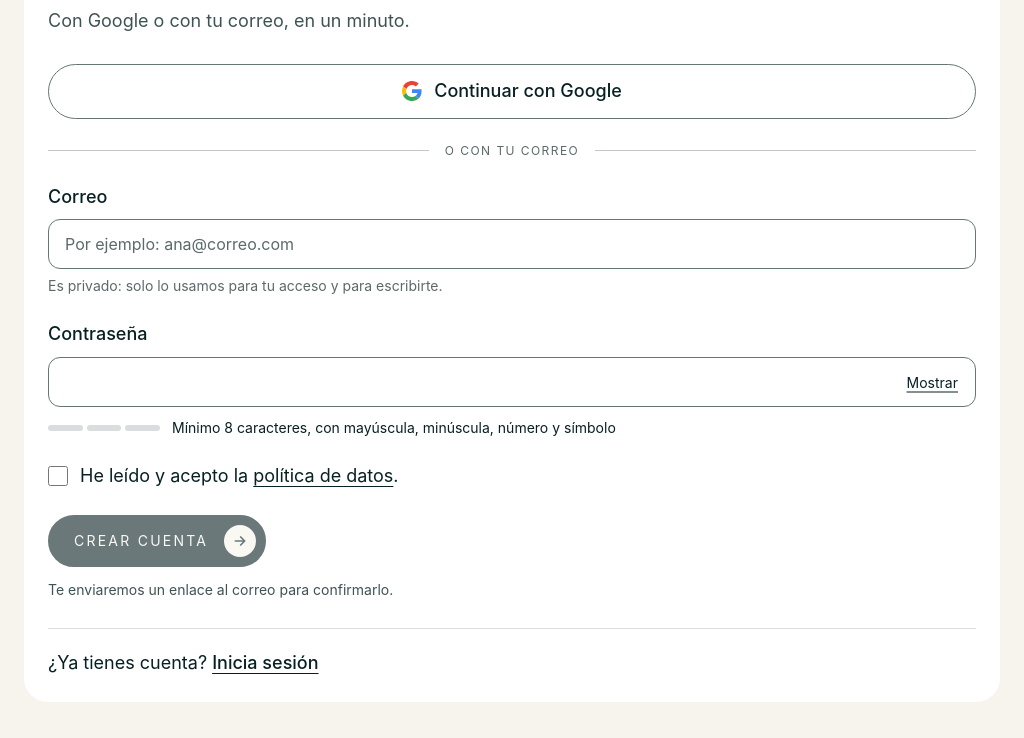
Test: RegistroView › el indicador de fortaleza cambia al escribir
(page scrolled)
expect the text "Mínimo 8 caracteres, con mayúscula, minúscula, número y símbolo" is shown: met, box left=172, top=417, right=616, bottom=438
Type "corta" into the password field labelled "Contraseña" at [512, 382], box left=48, top=357, right=976, bottom=407
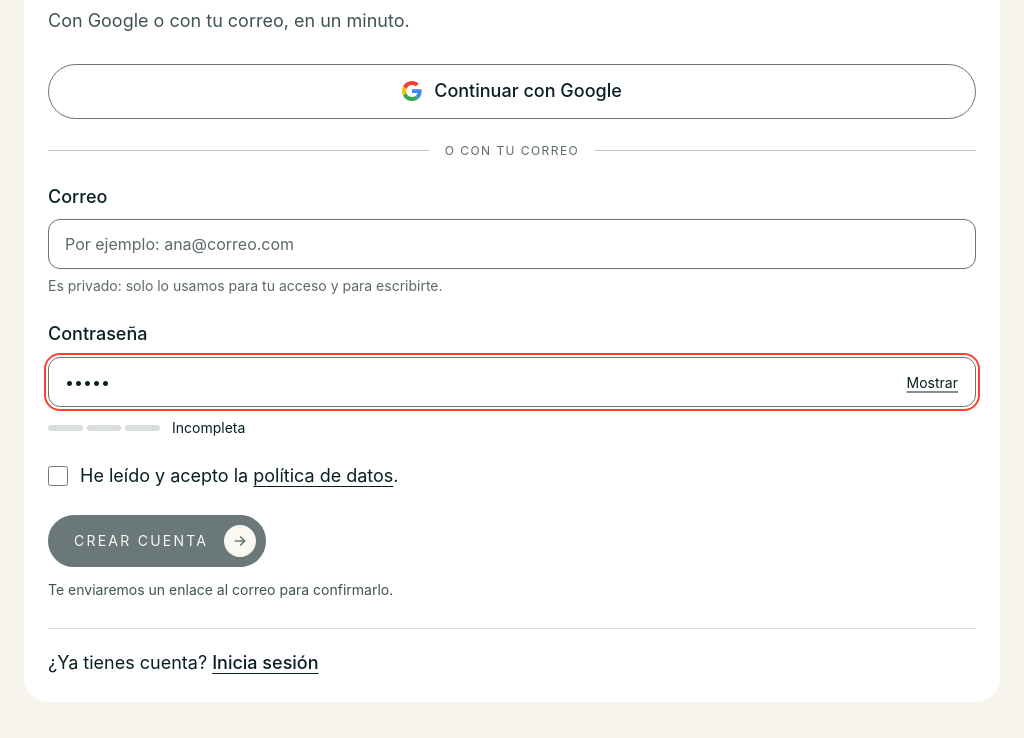
expect the text "Incompleta" is shown: met, box left=172, top=417, right=245, bottom=438
Type "letras123" into the password field labelled "Contraseña" at [512, 382], box left=48, top=357, right=976, bottom=407
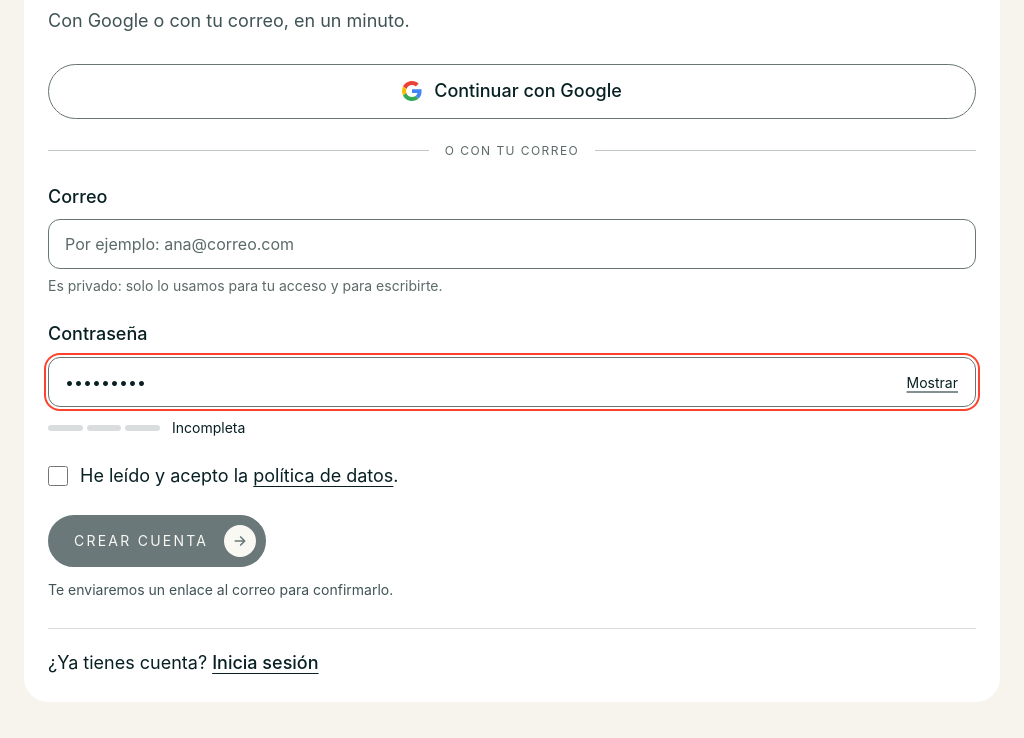
expect the text "Incompleta" is shown: met, box left=172, top=417, right=245, bottom=438
Type "Letras-123" into the password field labelled "Contraseña" at [512, 382], box left=48, top=357, right=976, bottom=407
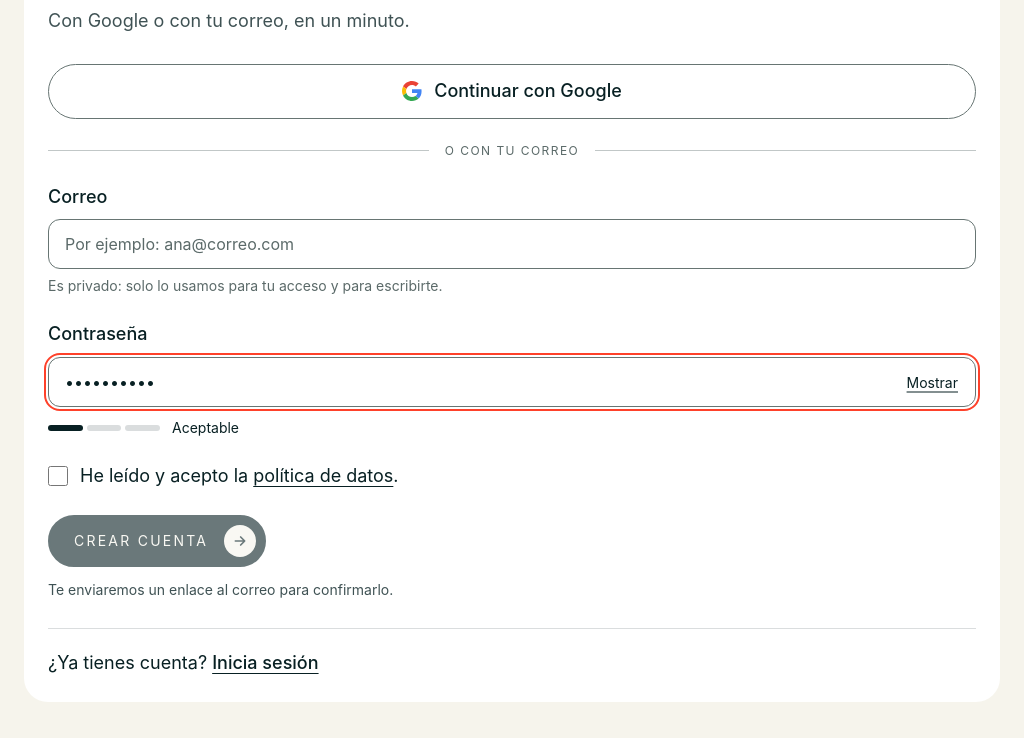
expect the text "Aceptable" is shown: met, box left=172, top=417, right=239, bottom=438
Type "Letras-123456" into the password field labelled "Contraseña" at [512, 382], box left=48, top=357, right=976, bottom=407
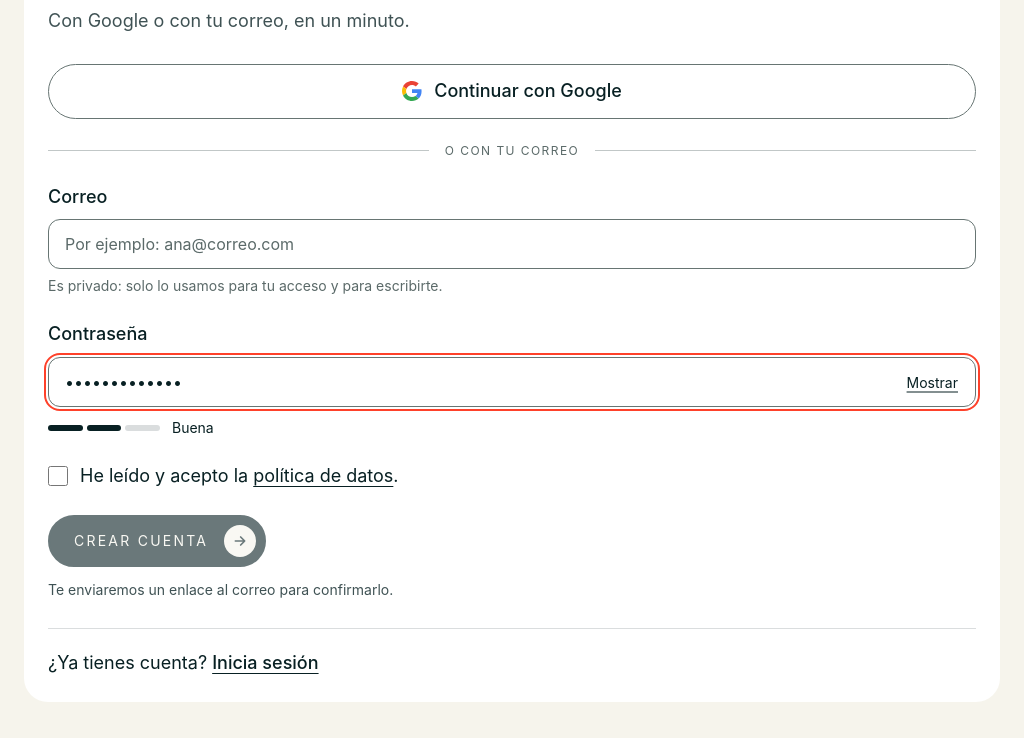
expect the text "Buena" is shown: met, box left=172, top=417, right=214, bottom=438
